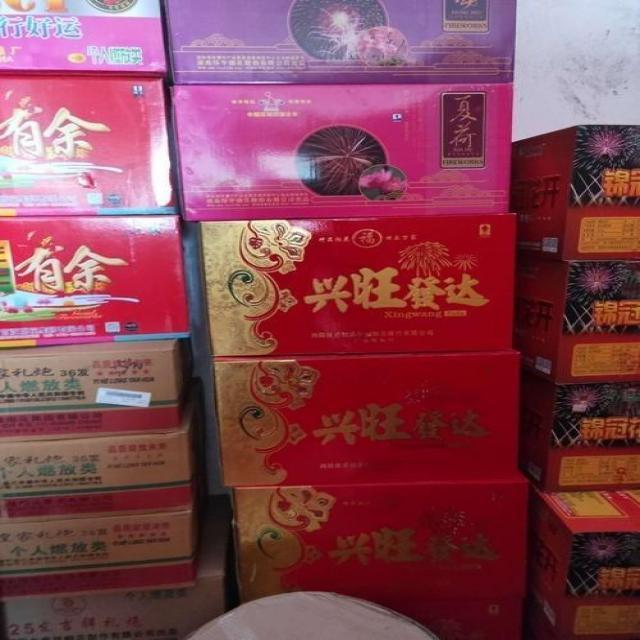box: (202, 350, 539, 490), (169, 82, 507, 218), (193, 218, 522, 352), (225, 476, 528, 604), (165, 0, 524, 93), (0, 215, 201, 346), (0, 80, 187, 220), (509, 121, 640, 265), (0, 507, 205, 599), (0, 424, 209, 514), (522, 488, 640, 640), (0, 340, 202, 428), (514, 260, 640, 384), (514, 373, 640, 496)
